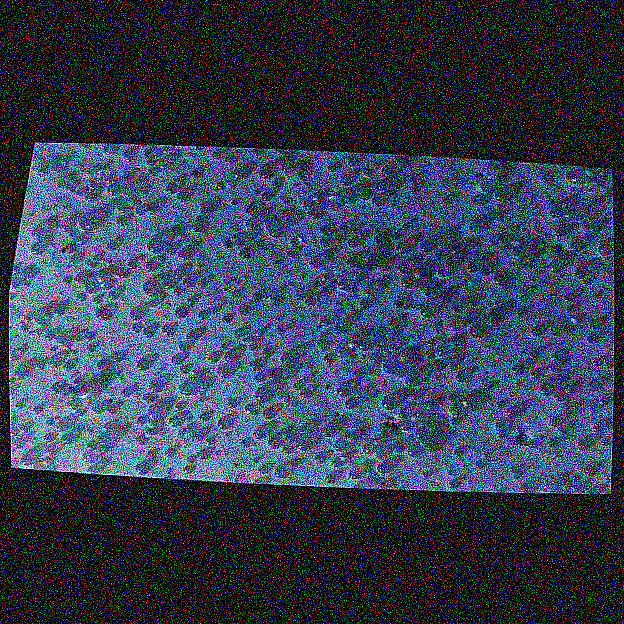GrassBeadSeg: (38, 188, 612, 488), (11, 188, 613, 458), (84, 169, 603, 474), (75, 170, 610, 416), (42, 188, 511, 455), (82, 166, 562, 426), (162, 156, 574, 458), (47, 203, 516, 468), (98, 189, 521, 452), (68, 256, 534, 493), (103, 183, 487, 468), (85, 226, 569, 448), (86, 191, 465, 457), (47, 232, 431, 479), (145, 174, 568, 398), (103, 240, 521, 466), (90, 192, 512, 414), (144, 171, 481, 436), (18, 283, 505, 465), (174, 248, 592, 451), (189, 224, 557, 447), (159, 264, 546, 474), (97, 188, 381, 473), (169, 227, 567, 427), (266, 238, 581, 481), (36, 164, 300, 448), (81, 325, 599, 462), (46, 238, 401, 435), (76, 217, 336, 483), (236, 247, 591, 440), (140, 170, 580, 324), (143, 199, 493, 390), (98, 218, 484, 381), (67, 319, 601, 434), (334, 191, 611, 406), (337, 175, 569, 430), (266, 260, 569, 449), (100, 325, 545, 452), (117, 183, 337, 437), (133, 236, 360, 475), (105, 308, 599, 414), (82, 280, 427, 429), (272, 148, 438, 452), (165, 334, 598, 450), (28, 218, 262, 431), (52, 257, 323, 440), (174, 193, 349, 472), (43, 199, 237, 450), (12, 290, 300, 456), (143, 170, 352, 396), (96, 295, 529, 403), (226, 354, 601, 478), (47, 196, 383, 333), (122, 242, 412, 397), (267, 226, 584, 364), (221, 245, 585, 362), (54, 361, 557, 445), (172, 145, 311, 428), (114, 205, 260, 473), (70, 169, 196, 464), (193, 273, 510, 390), (233, 268, 590, 371), (258, 191, 576, 303), (277, 369, 596, 476), (317, 315, 612, 429), (67, 179, 387, 284), (180, 191, 374, 351), (431, 324, 610, 491), (109, 404, 459, 489), (184, 331, 423, 455), (259, 370, 542, 474), (325, 163, 613, 265), (245, 232, 602, 313), (108, 351, 385, 451), (328, 318, 539, 448), (284, 184, 390, 442), (118, 323, 489, 396), (60, 385, 406, 459), (313, 189, 403, 464), (284, 250, 470, 382), (395, 349, 579, 480), (317, 226, 468, 383), (316, 237, 423, 457), (48, 383, 377, 454), (95, 280, 346, 372), (144, 290, 307, 416), (61, 257, 370, 323), (171, 246, 351, 358), (255, 299, 371, 472), (142, 260, 274, 403), (81, 205, 563, 244), (68, 208, 603, 243), (218, 343, 423, 434), (369, 199, 460, 400), (214, 165, 275, 429), (391, 170, 594, 248), (133, 405, 524, 445), (291, 274, 418, 387), (58, 325, 175, 444), (360, 286, 465, 415), (175, 253, 263, 398), (11, 366, 164, 448), (52, 309, 233, 378), (169, 269, 428, 317), (9, 314, 93, 461), (119, 246, 407, 288), (388, 169, 464, 325), (76, 292, 219, 373), (180, 428, 431, 473), (143, 280, 212, 440), (179, 277, 436, 316), (346, 419, 511, 479), (283, 287, 433, 351), (447, 321, 565, 402), (510, 255, 589, 374), (192, 370, 292, 462), (41, 426, 568, 443), (446, 358, 602, 415), (9, 332, 95, 426), (561, 169, 609, 333), (73, 237, 110, 444), (85, 279, 163, 376), (9, 241, 98, 325), (163, 168, 248, 255), (277, 179, 381, 248), (309, 165, 449, 216), (154, 380, 398, 409), (52, 170, 177, 225), (77, 234, 183, 296), (387, 362, 564, 399), (491, 275, 523, 479), (245, 381, 331, 453), (365, 165, 399, 344), (197, 239, 274, 318), (91, 322, 154, 408), (315, 288, 401, 350), (28, 207, 143, 252), (185, 233, 257, 304), (51, 143, 160, 189), (151, 149, 238, 205), (178, 341, 228, 436), (261, 376, 362, 418), (447, 254, 507, 317), (93, 307, 151, 371), (351, 239, 447, 277), (200, 147, 288, 188), (342, 391, 385, 474), (445, 299, 479, 402), (176, 392, 237, 448), (9, 324, 71, 379), (360, 343, 453, 377), (385, 381, 556, 397), (248, 315, 326, 350), (121, 145, 199, 178), (85, 403, 183, 426), (532, 352, 601, 379), (467, 251, 532, 275), (262, 287, 313, 317), (440, 234, 509, 254), (18, 320, 79, 341), (143, 359, 165, 392), (367, 352, 398, 372), (134, 415, 180, 425), (569, 171, 589, 184), (421, 349, 435, 358), (298, 449, 301, 451)
